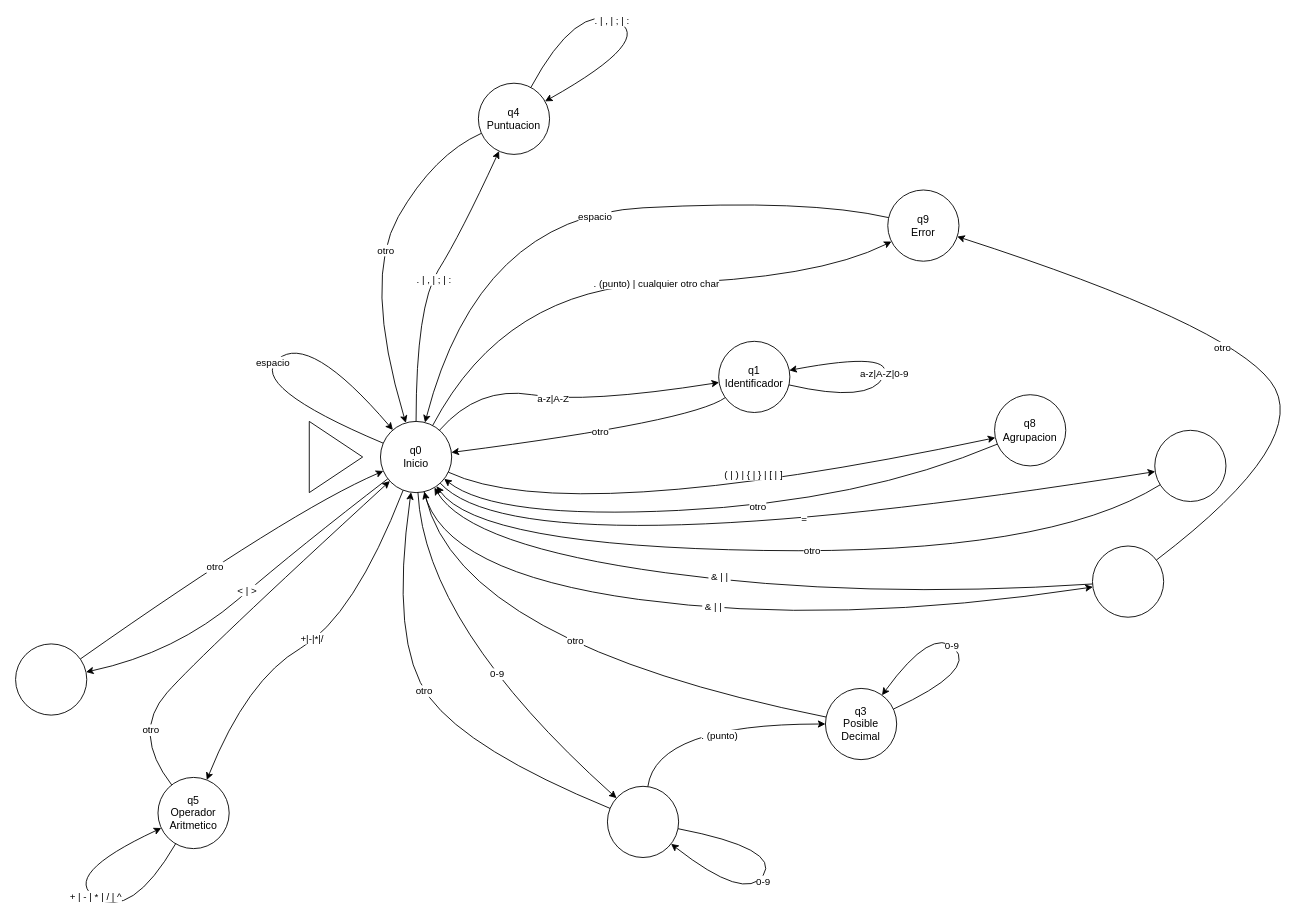
The diagram is 1296 pixels wide and 918 high, and some of its shapes have lost their labels. Here are the shapes that lost their labels. From the top down, the centre of each, then its label:
At [1190,465]: "q7 Asignacion".
At [1128,581]: "q6 Posible Operador Logico".
At [51,679]: "q10 Operador Relacional".
At [643,821]: "q2 Numero".
